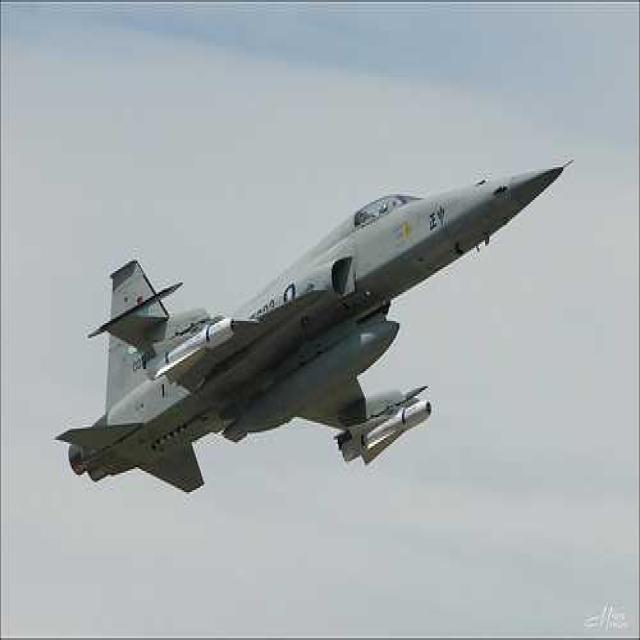missile: (228, 317, 400, 442)
